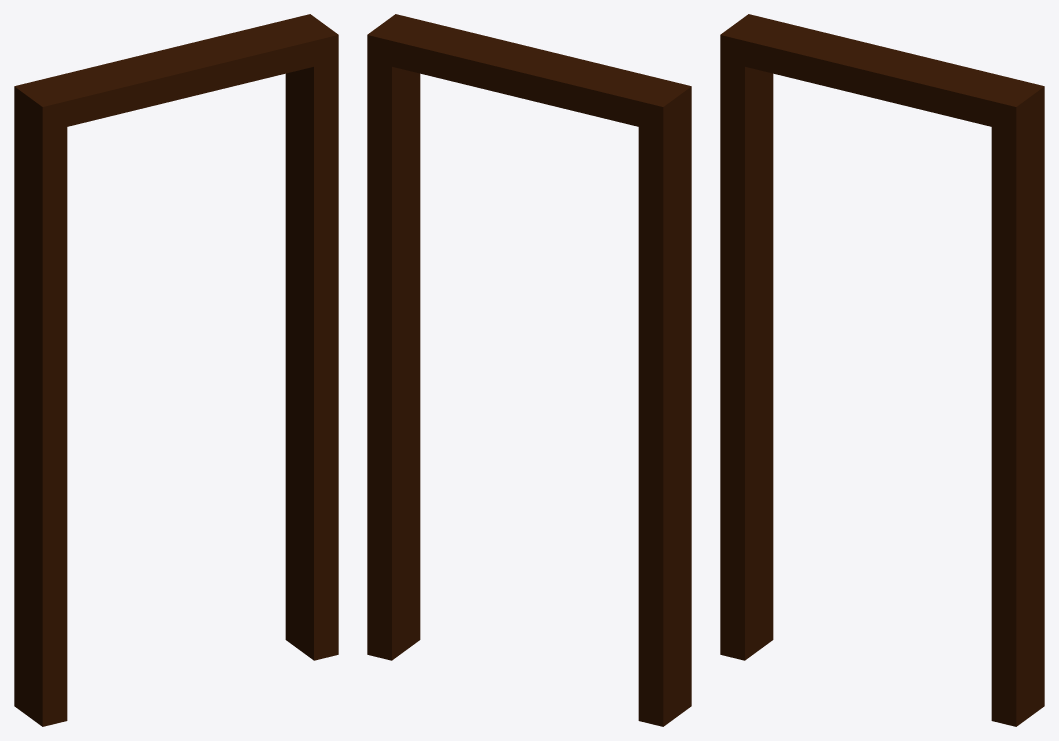
The model's file is DoorFrame.fbx.
3 views of the same model, side by side, from view 1: azimuth 30°, elevation 25°; view 2: azimuth 150°, elevation 25°; view 3: azimuth 330°, elevation 25° (orthographic).
Parts seen in each view (by area): view 1: Cube_1, Cube_2; view 2: Cube_1, Cube_2; view 3: Cube_1, Cube_2.
Part boxes in pixels (bbox=[...]): Cube_1: bbox=[14, 14, 338, 726]; Cube_2: bbox=[285, 67, 313, 660]; Cube_1: bbox=[367, 14, 691, 726]; Cube_2: bbox=[392, 67, 420, 660]; Cube_1: bbox=[720, 14, 1044, 726]; Cube_2: bbox=[745, 67, 773, 660].
Bounding box in the file's own units: 300 × 600 × 50.
